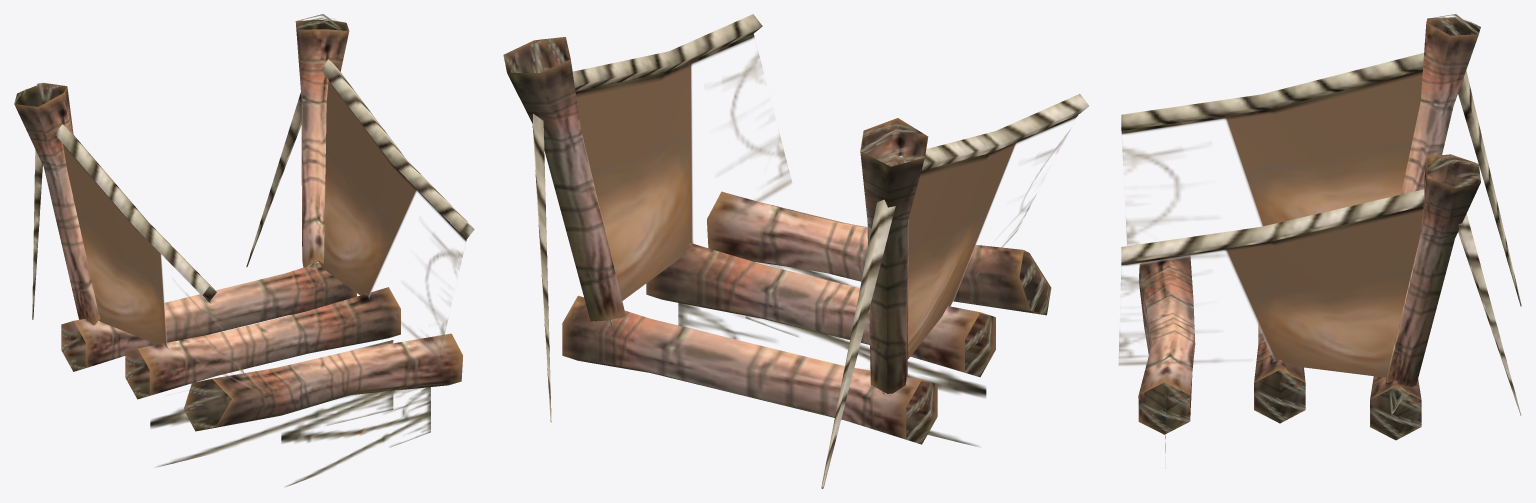
3 views of the same model, side by side, from view 1: azimuth 30°, elevation 25°; view 2: azimuth 150°, elevation 25°; view 3: azimuth 270°, elevation 25° (orthographic). The views are drawn at different scales.
Visible parts, largest first — view 1: objstart01; view 2: objstart01; view 3: objstart01.
Part boxes in pixels (<box>): objstart01: <box>14,14,474,486</box>; objstart01: <box>503,14,1088,488</box>; objstart01: <box>1118,14,1521,468</box>.
Size of the model in its own units: 310 by 293 by 309.
1 material, 1 textured.
